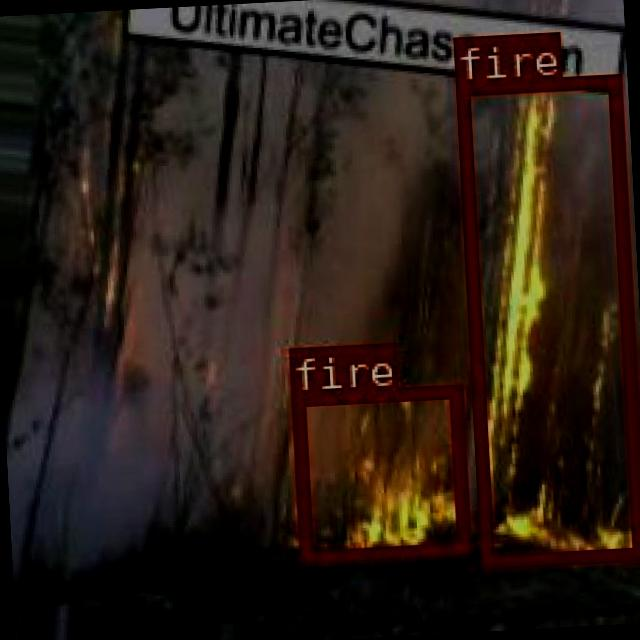fire: (453, 73, 640, 565), (290, 384, 468, 562)
